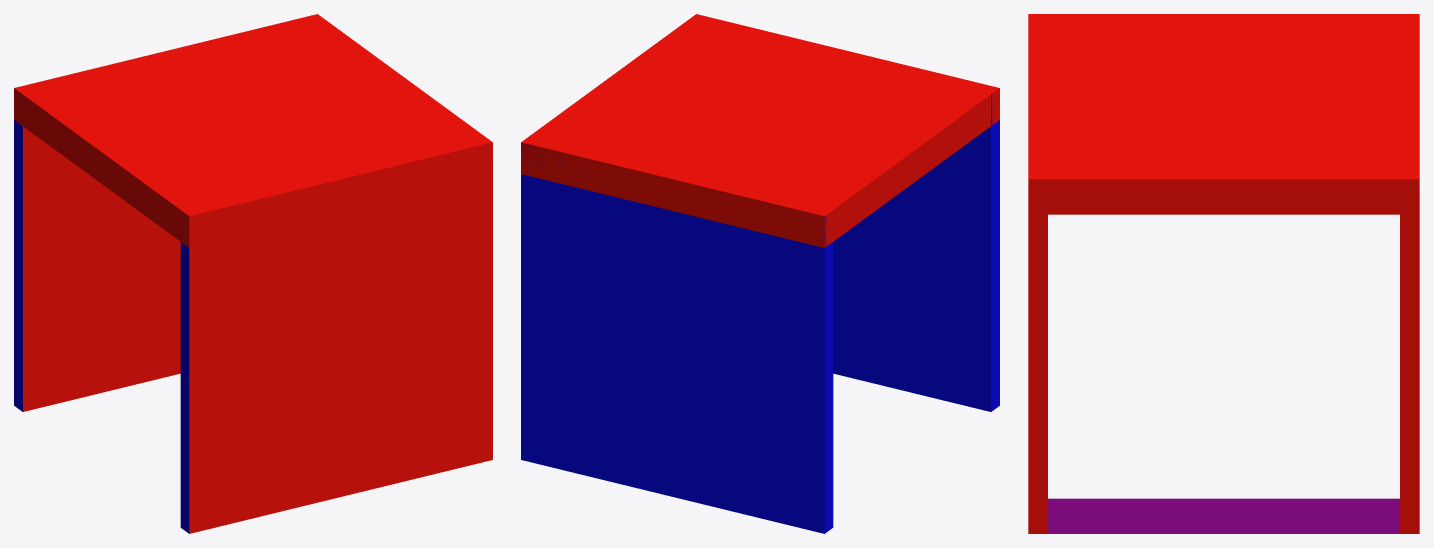
File: ramp3.obj
3 views of the same model, side by side, from view 1: azimuth 30°, elevation 25°; view 2: azimuth 150°, elevation 25°; view 3: azimuth 270°, elevation 25° (orthographic). The views are drawn at different scales.
Visible parts, largest first — view 1: wall_taller, ceiling, wall_taller.001; view 2: wall_taller.001, ceiling, wall_taller; view 3: ceiling, ramp3, wall_taller, wall_taller.001.
Boxes of the visible parts, x1,y1,x2,y2 form: wall_taller: (180, 136, 492, 533); ceiling: (14, 14, 492, 247); wall_taller.001: (14, 14, 322, 411); wall_taller.001: (521, 136, 833, 533); ceiling: (521, 14, 999, 247); wall_taller: (688, 14, 999, 411); ceiling: (1028, 14, 1419, 214); ramp3: (1048, 498, 1399, 533); wall_taller: (1028, 14, 1047, 533); wall_taller.001: (1400, 14, 1419, 533).
Bounding box in the file's own units: 10 × 10 × 10.
